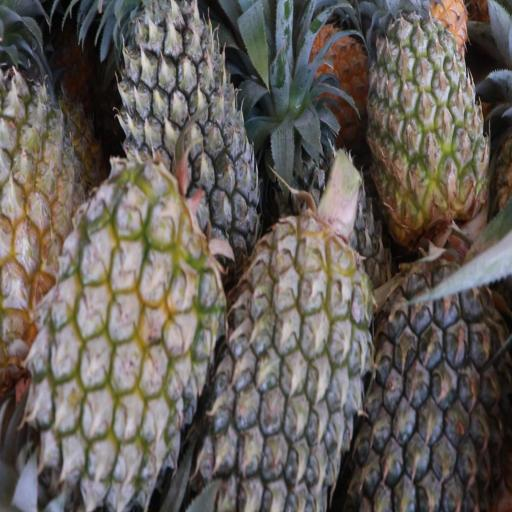------------------------------: (28, 169, 216, 500), (0, 0, 92, 357), (367, 0, 488, 230)
